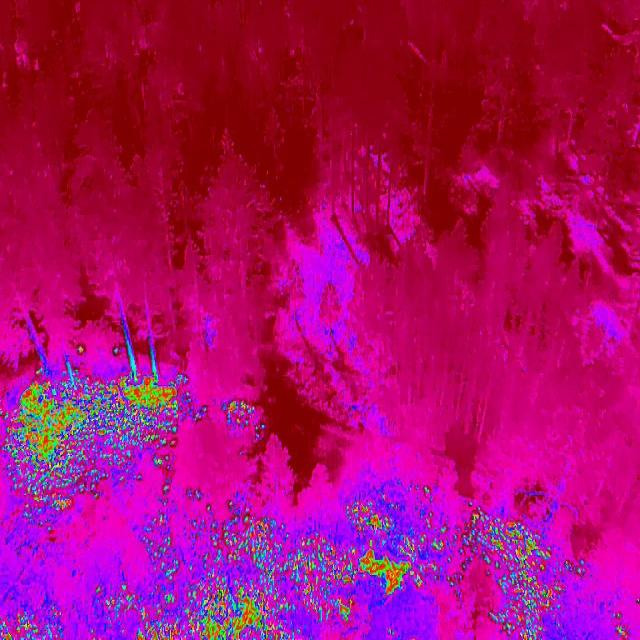fire: (114, 479, 460, 640), (0, 364, 200, 524), (460, 502, 558, 640), (0, 574, 114, 640), (226, 391, 266, 444)
